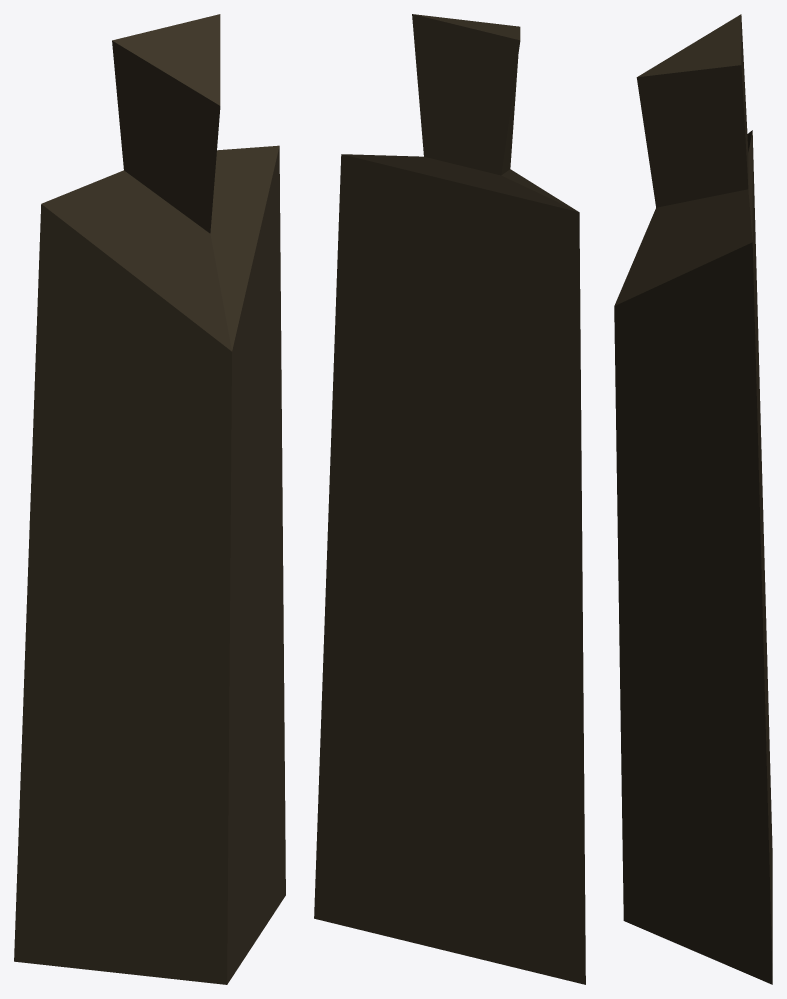
The model's file is unit.glb.
3 views of the same model, side by side, from view 1: azimuth 30°, elevation 25°; view 2: azimuth 150°, elevation 25°; view 3: azimuth 270°, elevation 25° (orthographic). The views are drawn at different scales.
Visible parts, largest first — view 1: unit; view 2: unit; view 3: unit.
Part boxes in pixels (bbox=[...]): unit: bbox=[14, 14, 285, 984]; unit: bbox=[314, 14, 585, 984]; unit: bbox=[614, 14, 772, 984].
Bounding box in the file's own units: 0.5551 × 1.78 × 0.2903.
